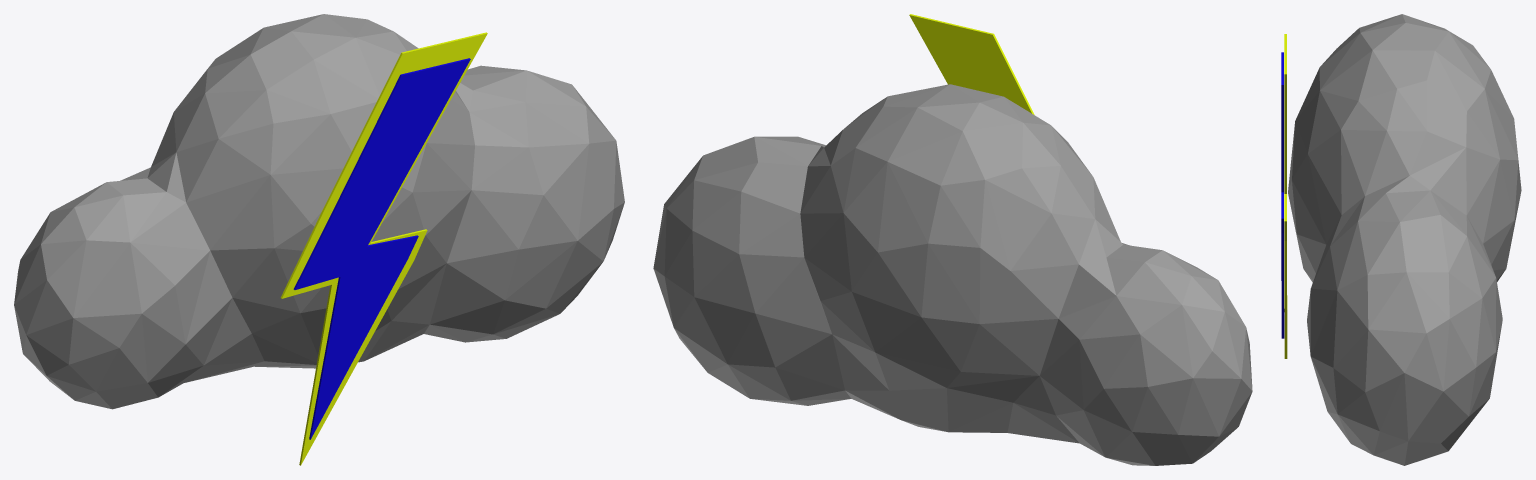
Rendered from TrovaoDeZeus.fbx.
3 views of the same model, side by side, from view 1: azimuth 30°, elevation 25°; view 2: azimuth 150°, elevation 25°; view 3: azimuth 270°, elevation 25° (orthographic). The views are drawn at different scales.
Visible parts, largest first — view 1: TrovaoDeZeus; view 2: TrovaoDeZeus; view 3: TrovaoDeZeus.
Part boxes in pixels (bbox=[...]): TrovaoDeZeus: bbox=[14, 14, 624, 465]; TrovaoDeZeus: bbox=[653, 14, 1252, 465]; TrovaoDeZeus: bbox=[1281, 14, 1521, 465].
Size of the model in its own units: 252 by 157 by 91.7.
